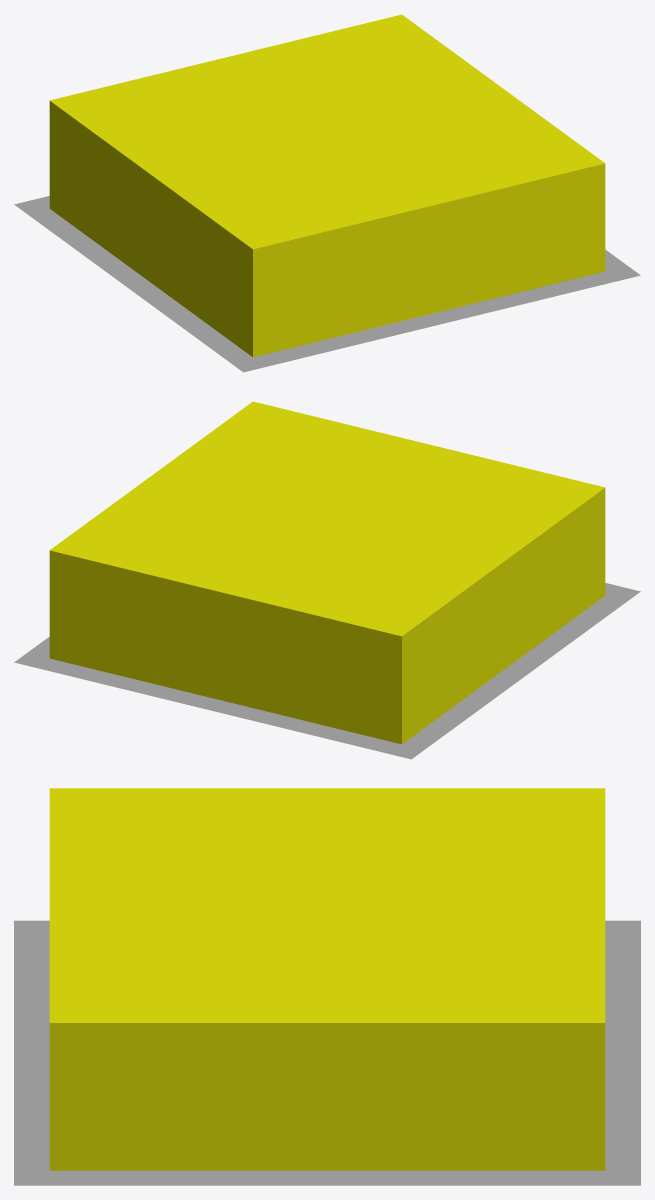
File: Field.fbx
The picture shows the model from 3 angles, top to bottom: view 1: azimuth 30°, elevation 25°; view 2: azimuth 150°, elevation 25°; view 3: azimuth 270°, elevation 25°; orthographic projection. The views are drawn at different scales.
Visible parts, largest first — view 1: pCube1, pPlane1; view 2: pCube1, pPlane1; view 3: pCube1, pPlane1.
Boxes of the visible parts, box(x1,y1,x2,y2) form: pCube1: box(49, 14, 605, 357); pPlane1: box(14, 196, 640, 372); pCube1: box(49, 401, 605, 744); pPlane1: box(14, 583, 640, 759); pCube1: box(49, 788, 605, 1170); pPlane1: box(14, 920, 640, 1185).
Bounding box in the file's own units: 177 × 47.61 × 177.
